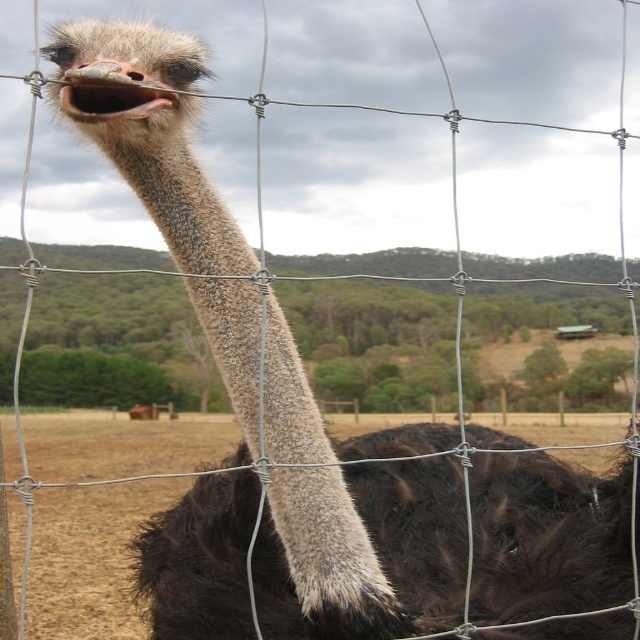Ostrich: (24, 7, 640, 640)
